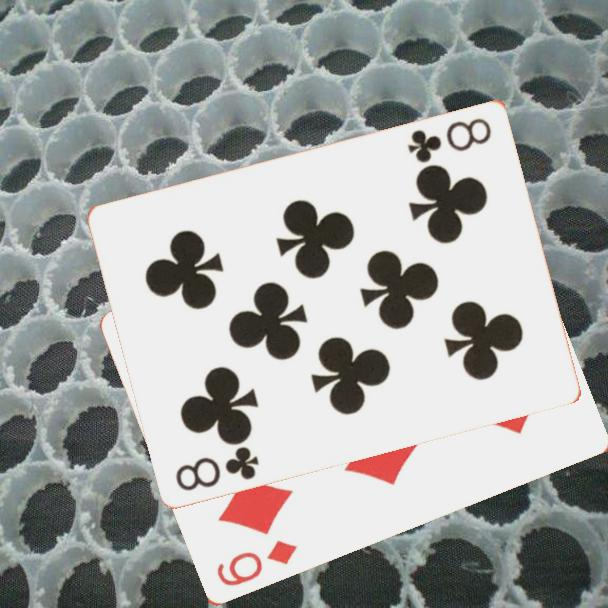c08: (404, 114, 495, 166), (172, 442, 262, 493)
d06: (213, 537, 300, 590)
